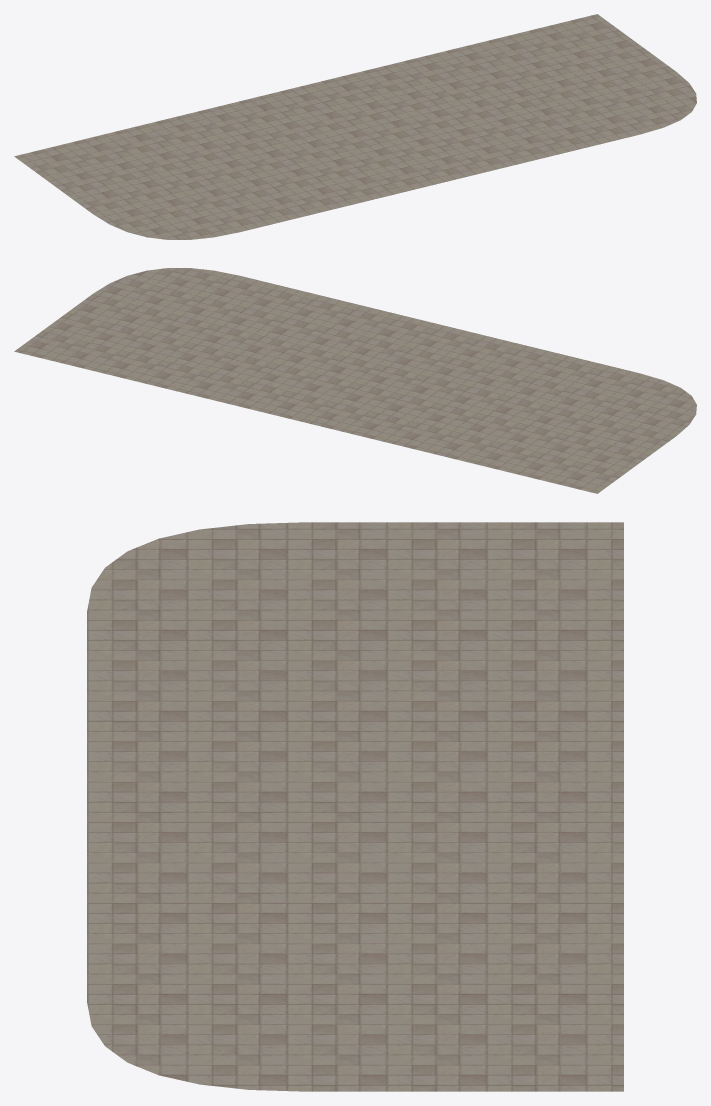
File: cs_lobbynew02_Terrains_dizhuan_01.FBX
3 views of the same model, one above another, from view 1: azimuth 30°, elevation 25°; view 2: azimuth 150°, elevation 25°; view 3: azimuth 270°, elevation 25° (orthographic). The views are drawn at different scales.
Parts seen in each view (by area): view 1: cs_lobbynew02_Terrains_dizhuan_01; view 2: cs_lobbynew02_Terrains_dizhuan_01; view 3: cs_lobbynew02_Terrains_dizhuan_01.
Boxes of the visible parts, x1,y1,x2,y2 form: cs_lobbynew02_Terrains_dizhuan_01: (14,14,696,239); cs_lobbynew02_Terrains_dizhuan_01: (14,268,696,493); cs_lobbynew02_Terrains_dizhuan_01: (87,522,623,1091).
Bounding box in the file's own units: 4591 × 6.1e-05 × 1829.
